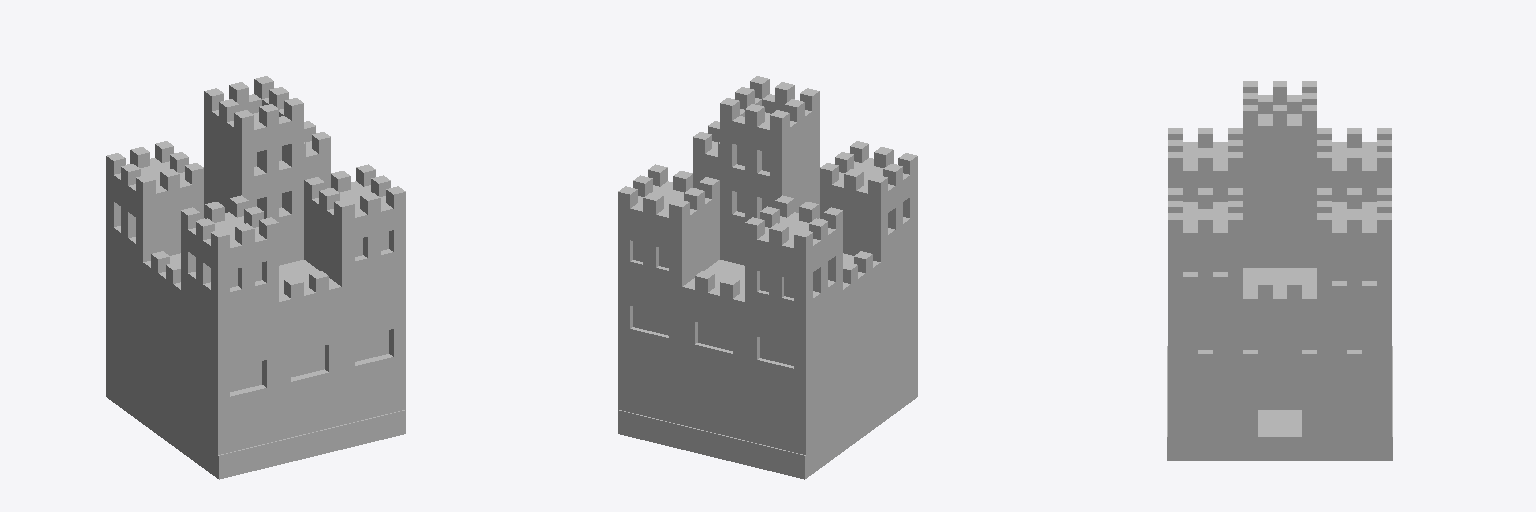
Rendered from twierdza6Converted.obj.
3 views of the same model, side by side, from view 1: azimuth 30°, elevation 25°; view 2: azimuth 150°, elevation 25°; view 3: azimuth 270°, elevation 25° (orthographic).
Bounding box in the file's own units: 16.47 × 26.68 × 17.19.